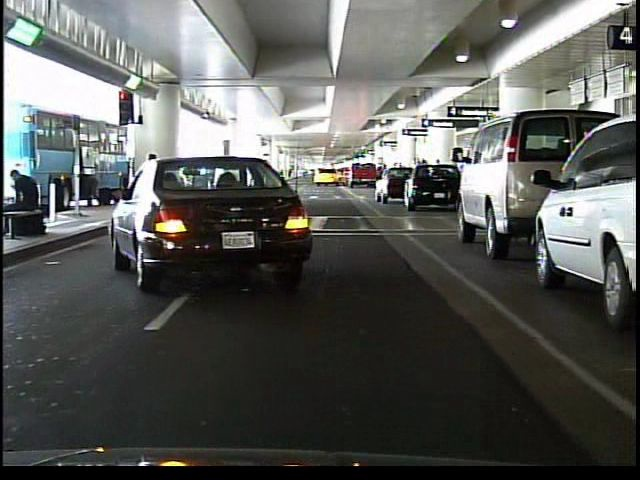person: (5, 165, 44, 244)
